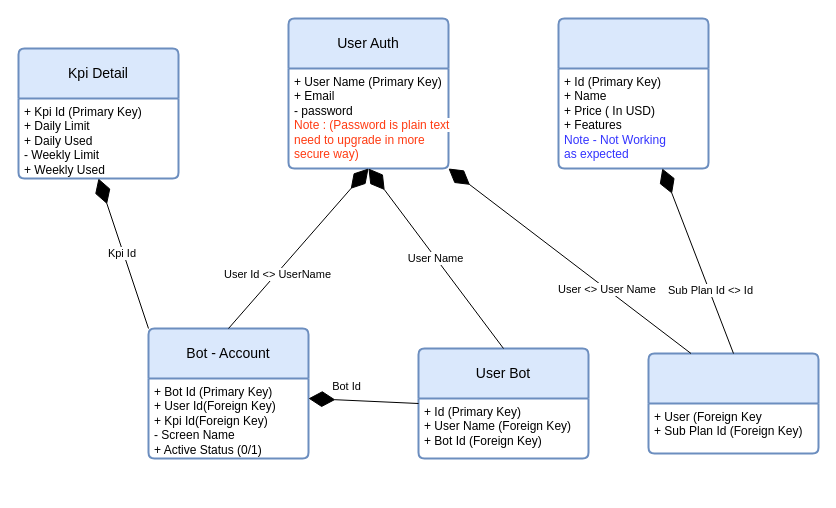
Image size: 836x508. Some labels were removed from this diagram. Here are the shapes that lost their labels. From the top down, the box of each, then its label:
(557, 17, 709, 169): Subscription Plan
(647, 352, 819, 454): User Subscription Plan
